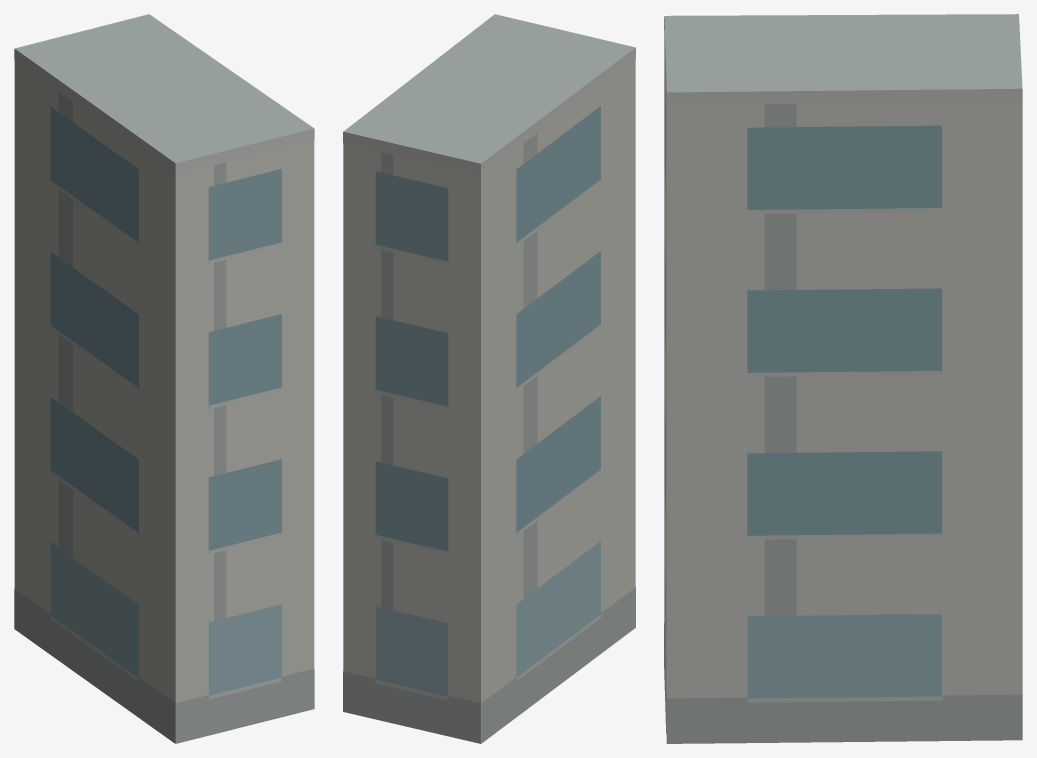
Rendered from survey-upis-32968289.glb.
The picture shows the model from 3 angles, left to right: view 1: azimuth 30°, elevation 25°; view 2: azimuth 150°, elevation 25°; view 3: azimuth 270°, elevation 25°; orthographic projection. The views are drawn at different scales.
Parts seen in each view (by area): view 1: survey-upis-32968289.tmp; view 2: survey-upis-32968289.tmp; view 3: survey-upis-32968289.tmp.
Part boxes in pixels (x1,y1,x2,y2): survey-upis-32968289.tmp: (14,14,314,743); survey-upis-32968289.tmp: (343,14,635,743); survey-upis-32968289.tmp: (664,14,1022,743).
Size of the model in its own units: 3.16 by 12.2 by 6.09.
